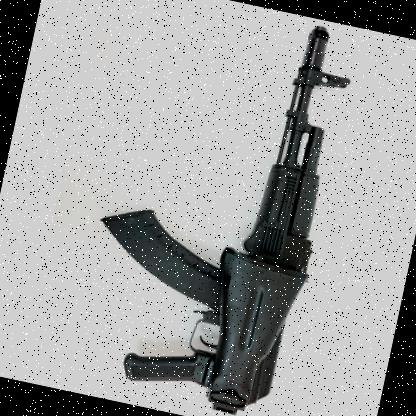rifle: (62, 0, 399, 416)
